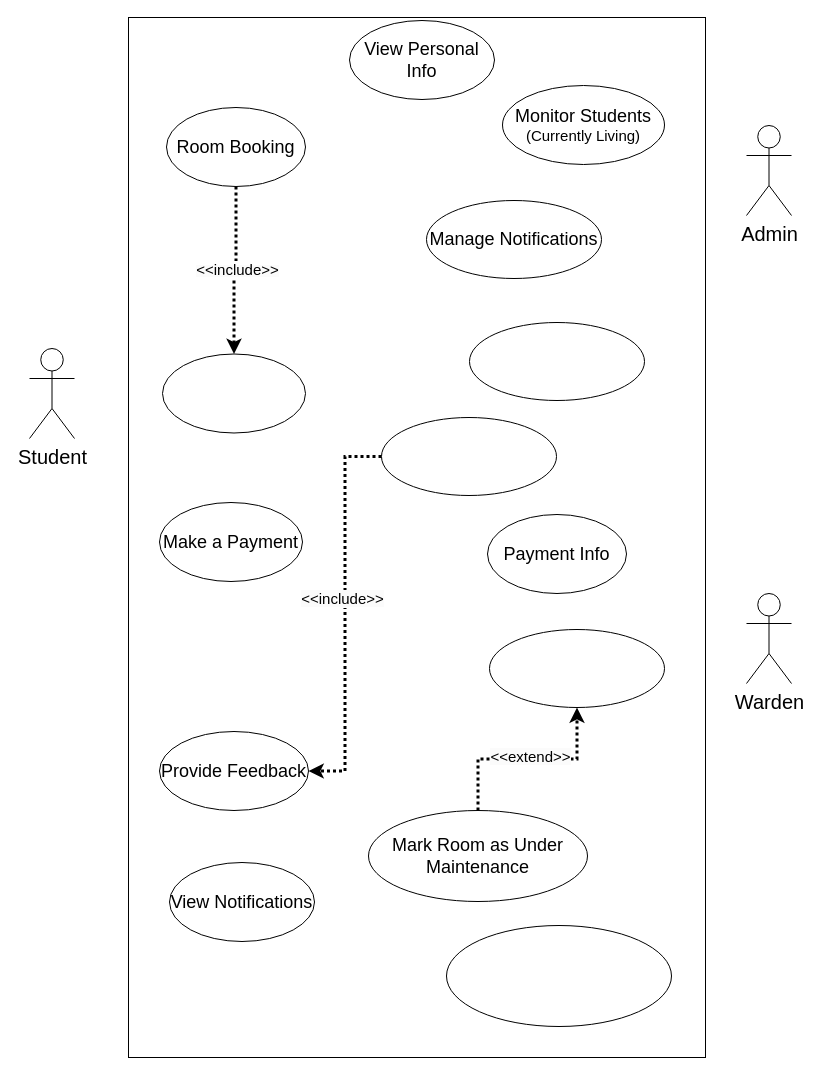
Image size: 821x1075. Some labels were removed from this diagram. Each missing label, with the box of its shape:
Check Room Availability: (162, 353, 306, 433)
Log Room Checks: (488, 628, 664, 708)
Manage Student Records (All Hostel Students): (446, 924, 672, 1026)
Monitor Room Status: (468, 322, 644, 400)
Review Feedback: (380, 416, 556, 496)
